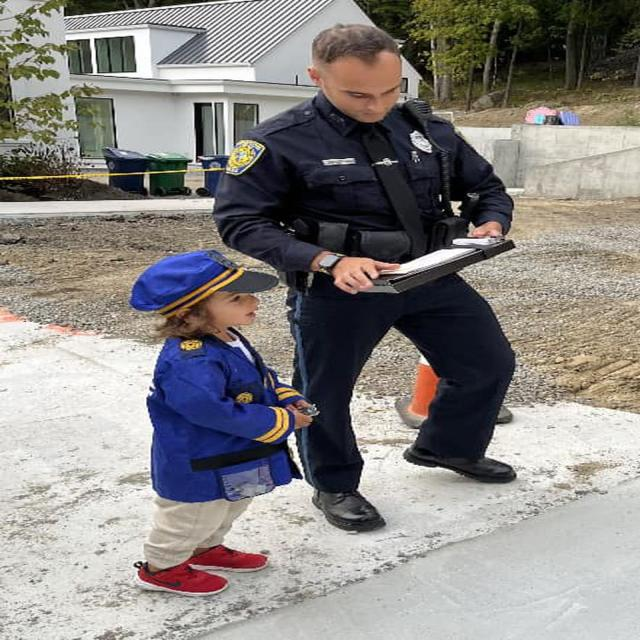police: (245, 45, 550, 533)
